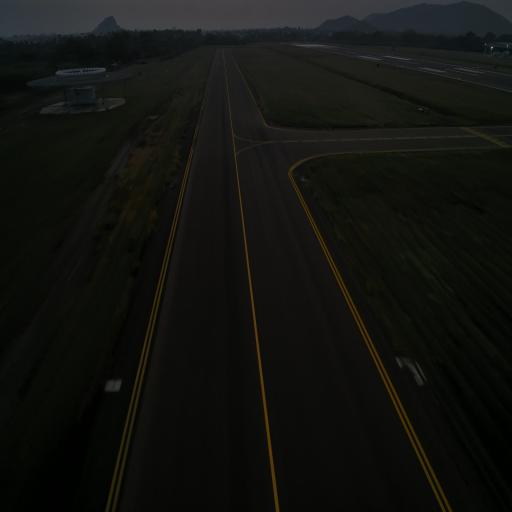on: (300, 172, 306, 181), (170, 180, 175, 190)
